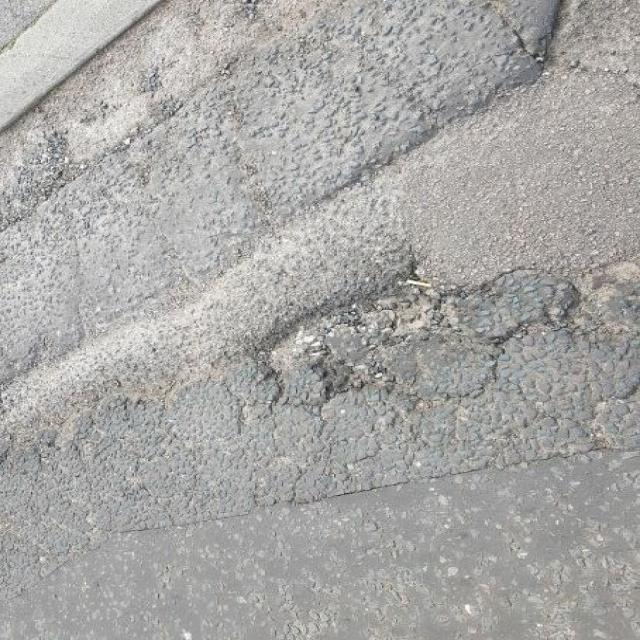Pothole: (253, 262, 551, 419), (499, 1, 640, 127)
